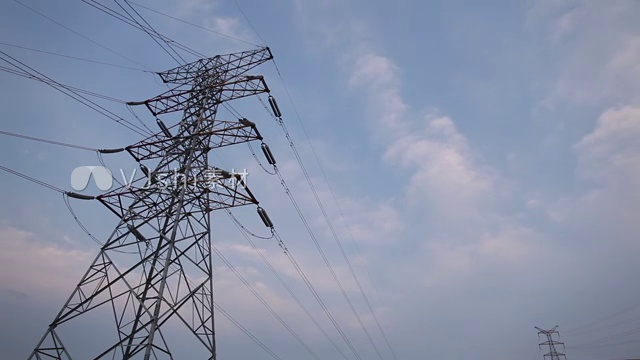tower_body: (28, 41, 279, 360)
tower_foot: (37, 275, 219, 358)
tower_head: (137, 45, 273, 114)
